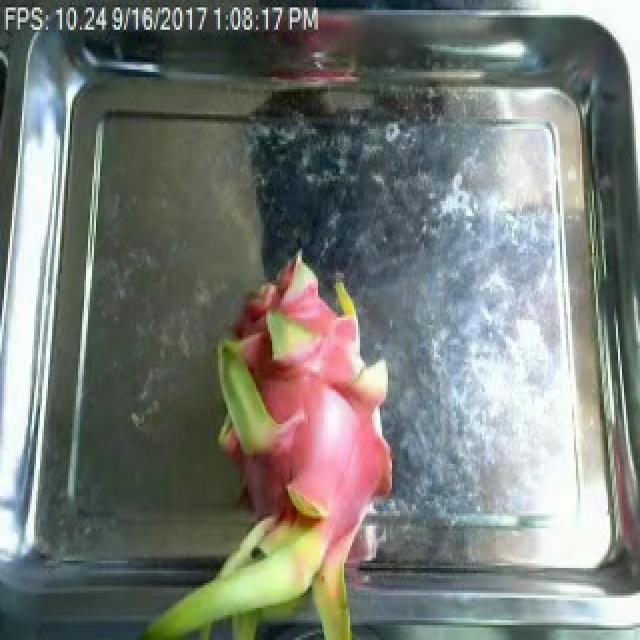fruit: (174, 233, 410, 640)
